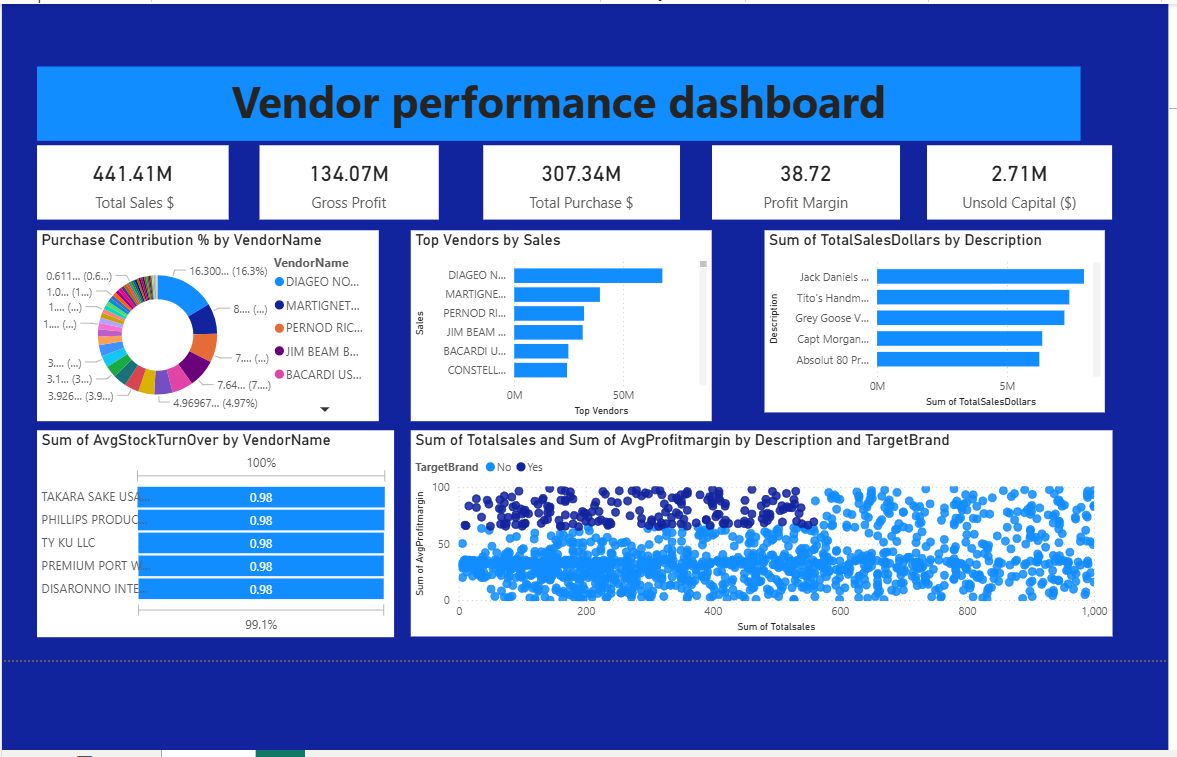

What the dashboard file says about the page in this screenshot:
{"tool":"powerbi","page":{"name":"Page 1","canvas":[1280,720],"ordinal":0},"visuals":[{"type":"card","fields":{"Values":["vendor_sales_summary (2).TotalSalesDollars"]},"box":[38.5,154.9,210.5,81.2],"z":0},{"type":"card","fields":{"Values":["vendor_sales_summary (2).GrossProfit"]},"box":[282.1,154.9,196.6,81.2],"z":1000},{"type":"card","fields":{"Values":["vendor_sales_summary (2).TotalPurchaseDollars"]},"box":[527.8,154.9,215.8,81.2],"z":2000},{"type":"card","fields":{"Values":["vendor_sales_summary (2).ProfitMargin"]},"box":[778.9,154.9,206.2,81.2],"z":3000},{"type":"card","fields":{"Values":["vendor_sales_summary (2).UnsolClInventoryValue"]},"box":[1016.1,154.9,203,81.2],"z":4000},{"type":"donutChart","fields":{"Y":["purchase_contributions.PurchaseContribution%"],"Category":["purchase_contributions.VendorName"]},"box":[38.5,247.9,375,209.4],"z":5000},{"type":"barChart","fields":{"Category":["vendor_sales_summary.VendorName"],"Y":["vendor_sales_summary.TotalSalesDollars"]},"box":[448.7,247.9,330.2,209.4],"z":6000},{"type":"barChart","fields":{"Category":["vendor_sales_summary.Description"],"Y":["vendor_sales_summary.TotalSalesDollars"]},"box":[837.7,247.9,374,199.8],"z":7000},{"type":"funnel","fields":{"Category":["LowTrunOverVendor.VendorName"],"Y":["LowTrunOverVendor.AvgStockTurnOver"]},"box":[38,468,392,227],"z":8000},{"type":"scatterChart","fields":{"Category":["Brandperformance.Description"],"X":["Brandperformance.Totalsales"],"Y":["Brandperformance.AvgProfitmargin"],"Series":["Brandperformance.TargetBrand"]},"box":[448.7,468,770.4,226.5],"z":9000},{"type":"textbox","box":[38.5,68.4,1145.4,81.2],"z":10000}]}

Visuals, with their boxes in screenshot pixels (x1, y1, x2, y2):
card - vendor_sales_summary (2).TotalSalesDollars: 35/144/226/217
card - vendor_sales_summary (2).GrossProfit: 256/144/434/217
card - vendor_sales_summary (2).TotalPurchaseDollars: 479/144/674/217
card - vendor_sales_summary (2).ProfitMargin: 706/144/893/217
card - vendor_sales_summary (2).UnsolClInventoryValue: 921/144/1106/217
donutChart - purchase_contributions.PurchaseContribution% x purchase_contributions.VendorName: 35/228/375/418
barChart - vendor_sales_summary.VendorName x vendor_sales_summary.TotalSalesDollars: 407/228/706/418
barChart - vendor_sales_summary.Description x vendor_sales_summary.TotalSalesDollars: 760/228/1099/409
funnel - LowTrunOverVendor.VendorName x LowTrunOverVendor.AvgStockTurnOver: 34/427/390/633
scatterChart - Brandperformance.Description x Brandperformance.Totalsales: 407/427/1106/633
textbox: 35/65/1074/139
